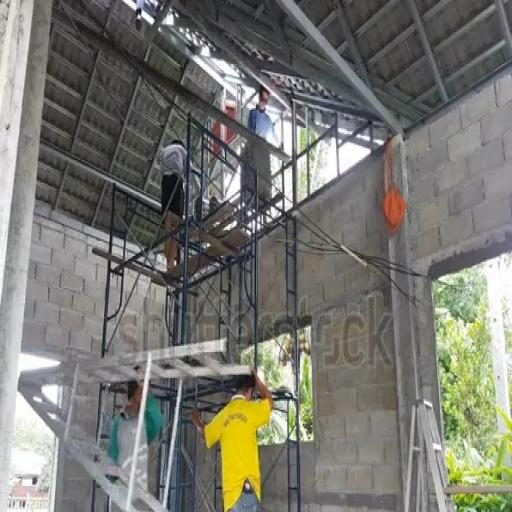head and helmet: (237, 374, 255, 399), (127, 380, 142, 405), (127, 381, 141, 403), (258, 86, 269, 111), (171, 139, 186, 149)
